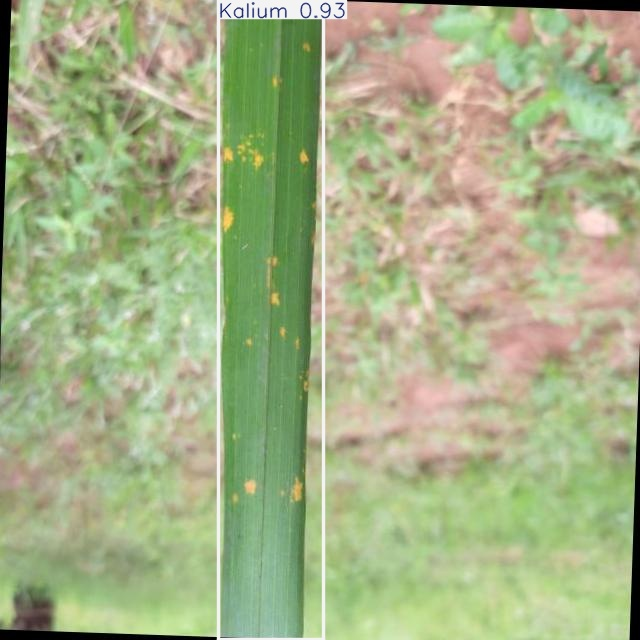Kalium: (219, 0, 324, 640)
